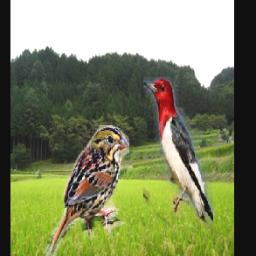Sparrow: (45, 125, 130, 256)
Woodpecker: (143, 78, 213, 228)
